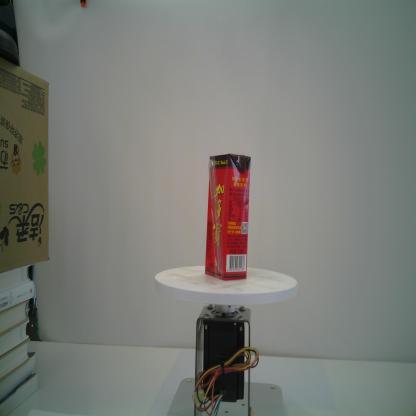Drink: (204, 153, 252, 282)
